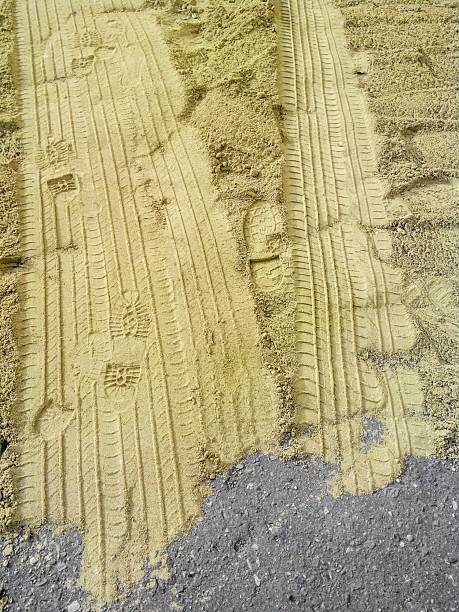vehicle_track: (16, 0, 274, 597), (280, 0, 430, 492)
